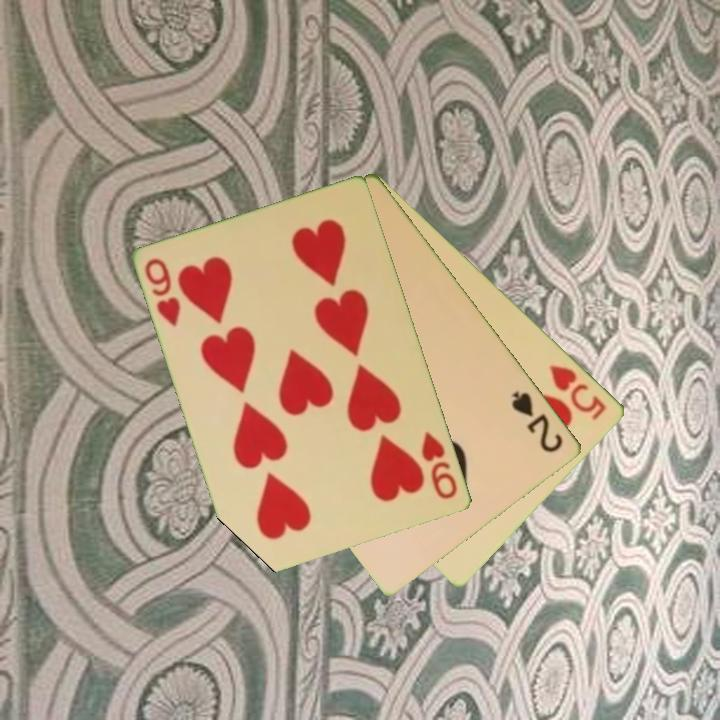2s: (508, 387, 567, 456)
5h: (546, 361, 610, 423)
9h: (418, 428, 461, 503), (141, 255, 184, 330)
